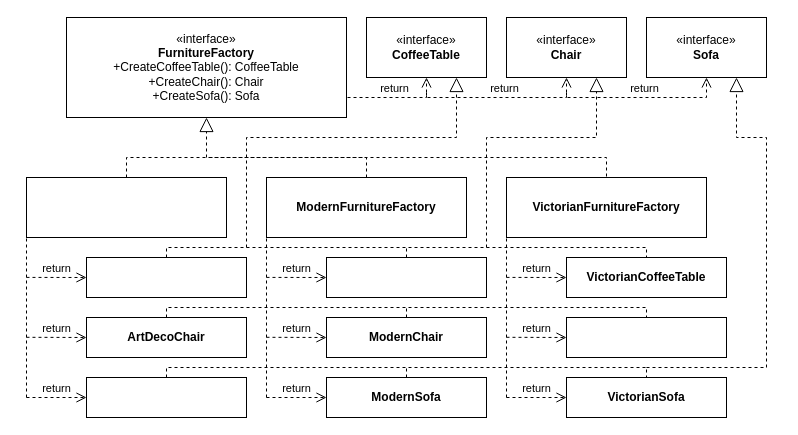
This 798x435 diagram has some shape labels left out. The centre of each missing label's shape, as x and y in pixels:
"ArtDecoCoffeeTable" goes at point (166, 277).
"ArtDecoFurnitureFactory" goes at point (126, 207).
"ArtDecoSofa" goes at point (166, 397).
"ModernCoffeeTable" goes at point (406, 277).
"VictorianChair" goes at point (646, 337).
